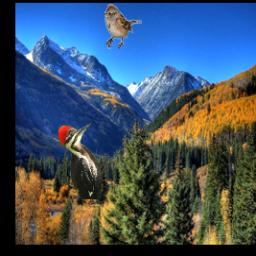Sparrow: (104, 4, 141, 49)
Woodpecker: (58, 124, 110, 200)
